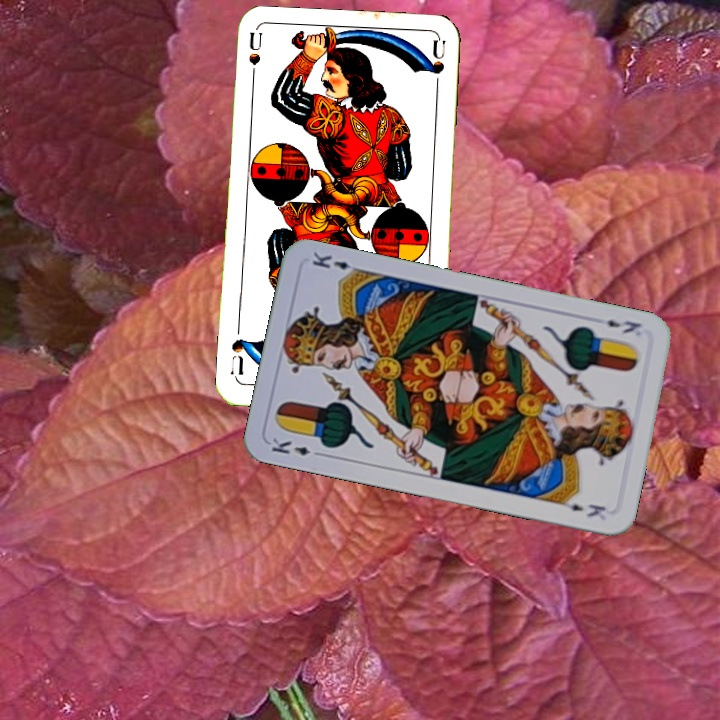EK: (267, 433, 326, 460), (603, 315, 644, 336)
SU: (244, 30, 265, 89)
